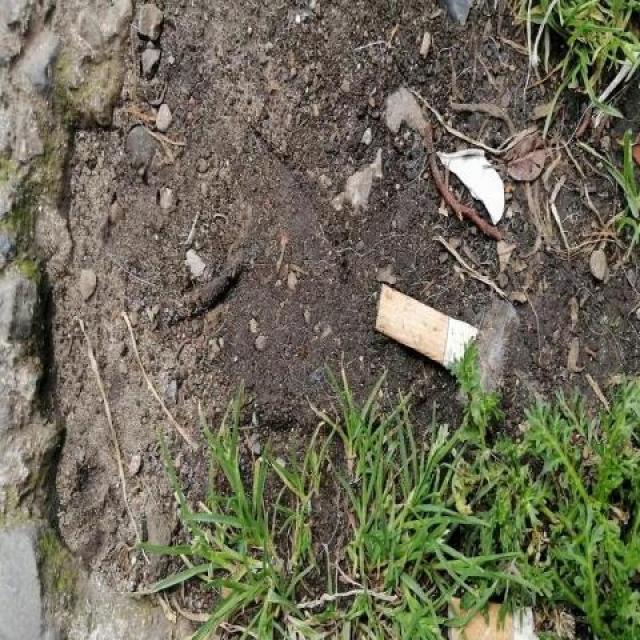non-organic waste: (373, 277, 483, 384), (444, 592, 540, 640)
